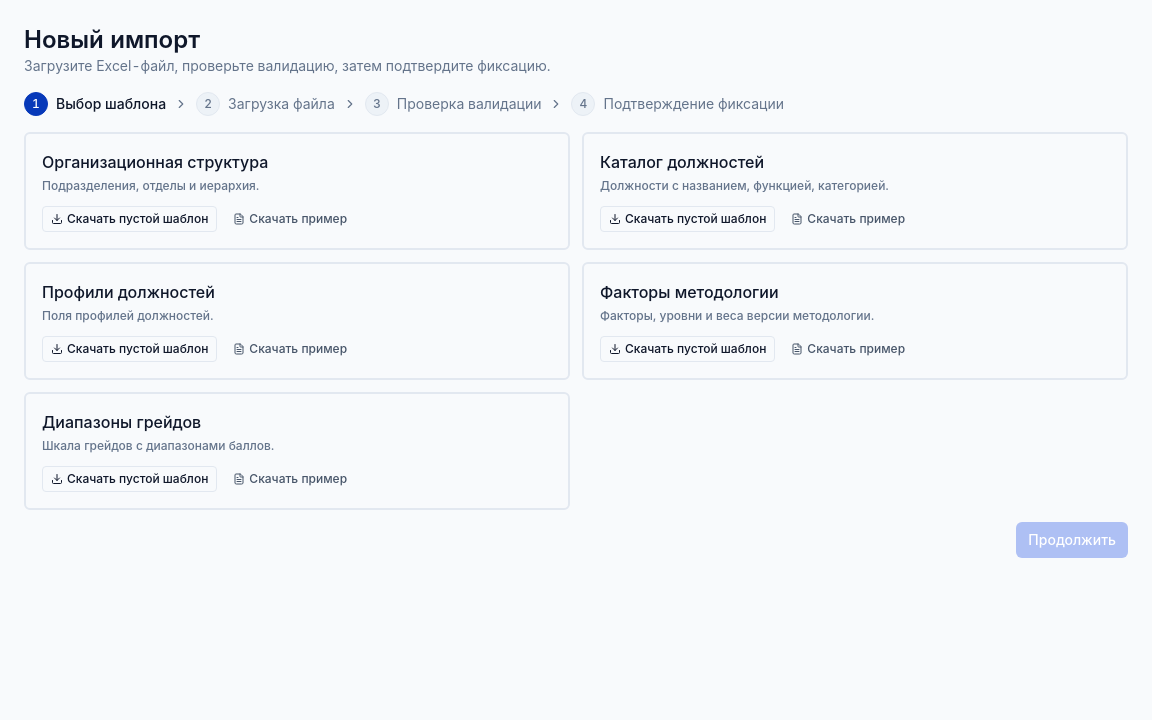
ImportWizardPage › marks METHODOLOGY_FACTORS_V1 as selectable (BE now upserts methodology + factors + levels) and advances the wizard past template choice
Click the button with test id "wizard-template-METHODOLOGY_FACTORS_V1-select": coordinates (689, 292) x1=600 y1=280 x2=1110 y2=324
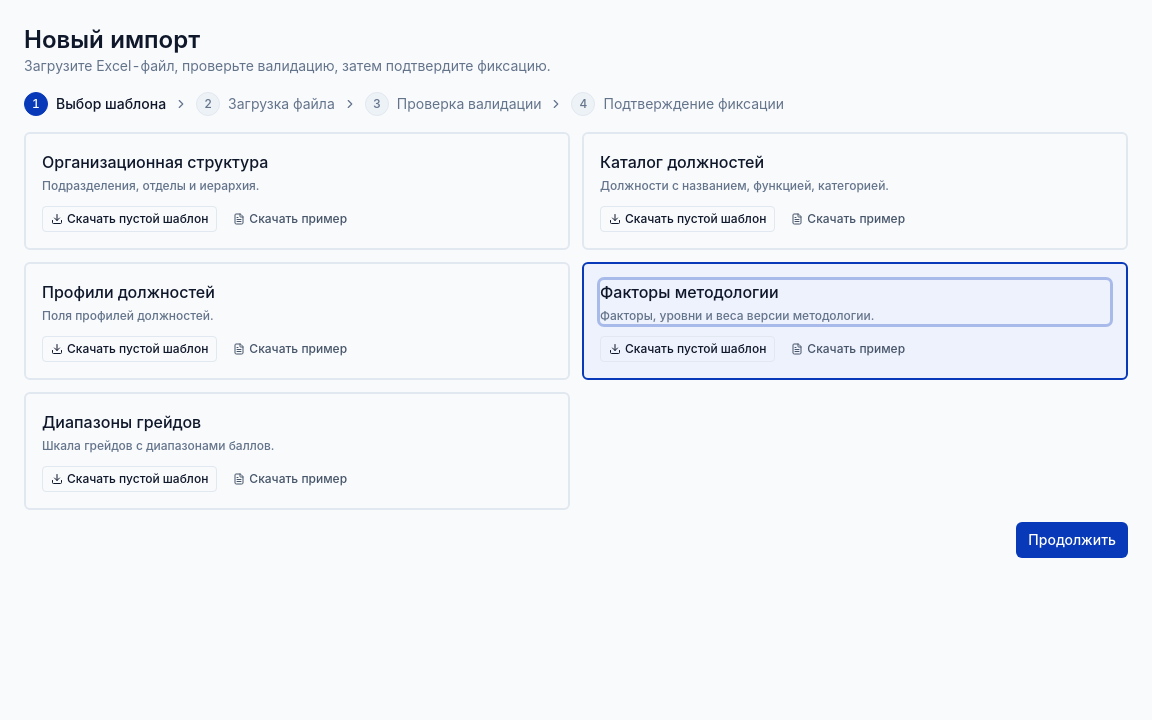
Expected: the button with test id "wizard-next-1" is enabled
Click the button with test id "wizard-next-1": coordinates (1072, 540) x1=1016 y1=522 x2=1128 y2=558
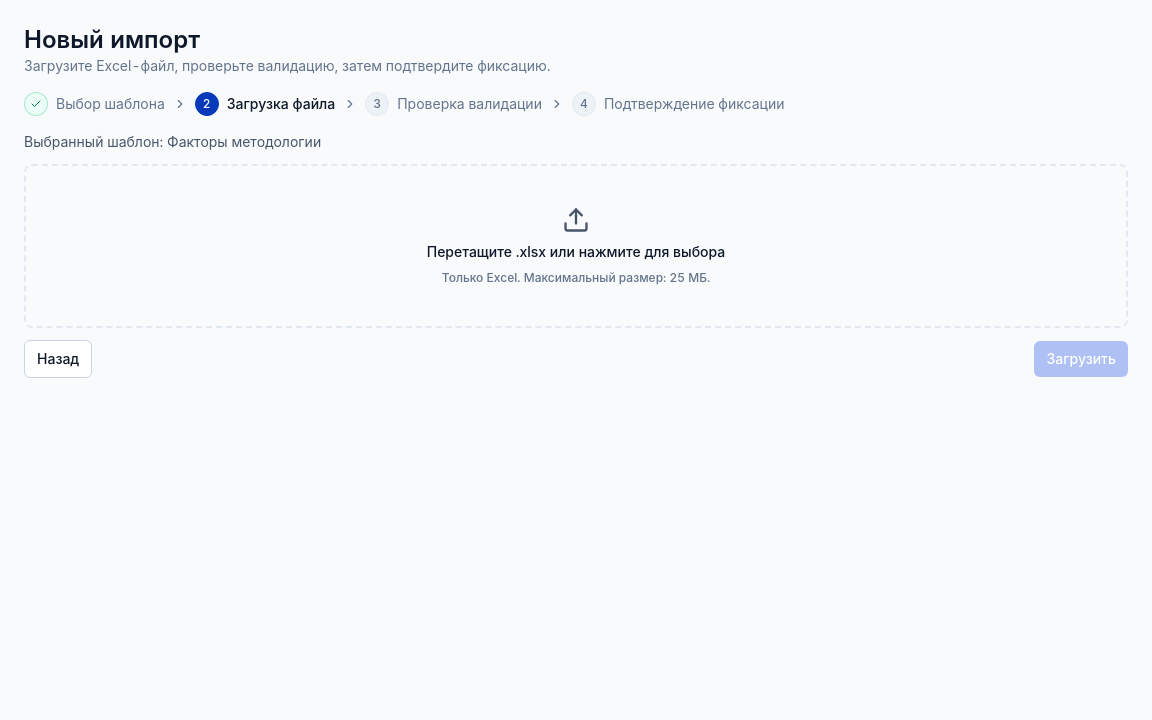
Expected: the element with test id "wizard-step-upload" is shown, x1=24 y1=132 x2=1128 y2=378
